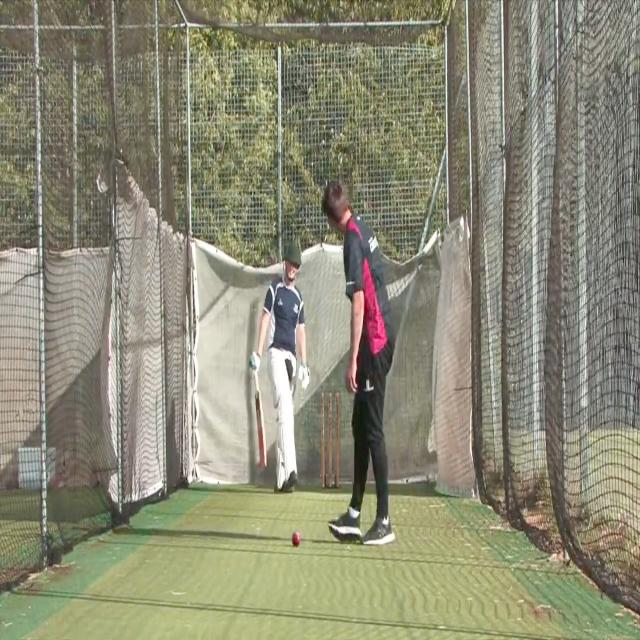batsman: (247, 243, 312, 496)
